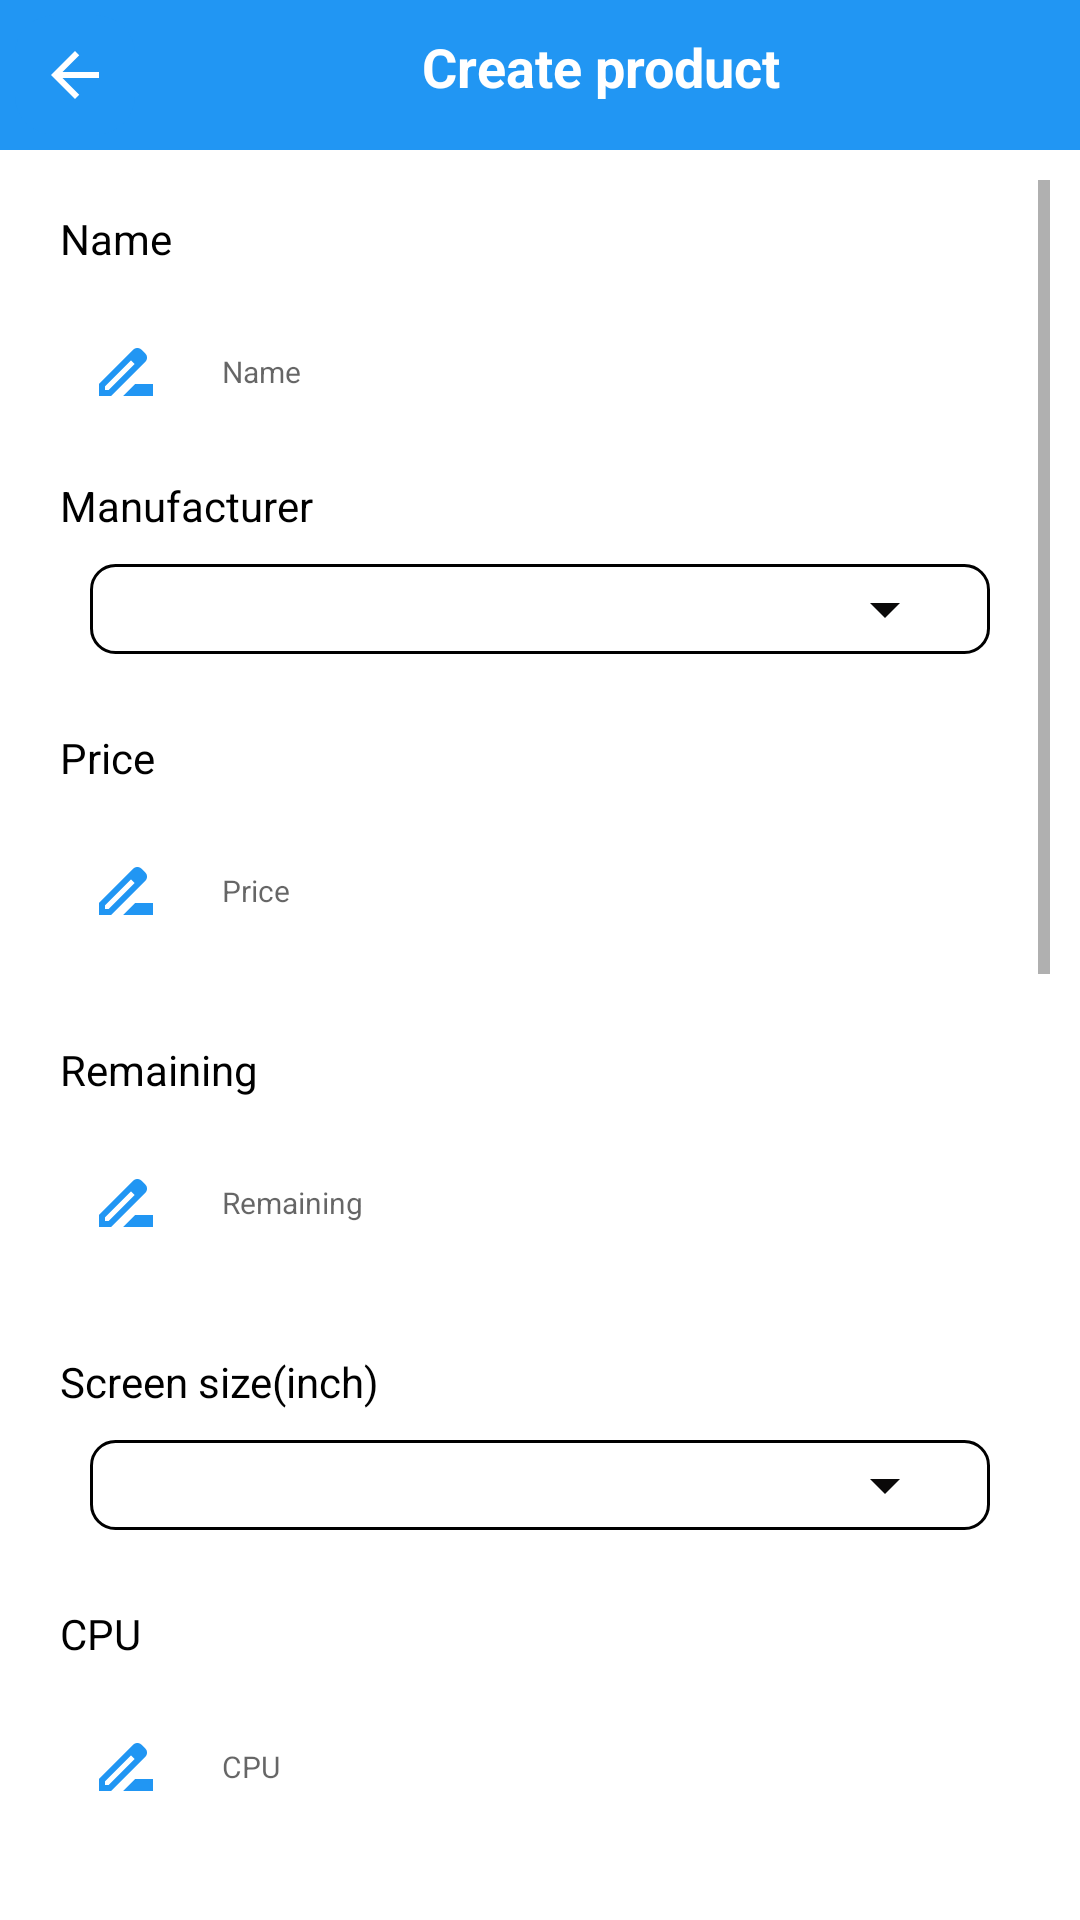

Named icons in this screenshot (1080×1920) and their bounding boxes, (x1, y1, x2, y2):
arrow back: (51, 51, 99, 99)
